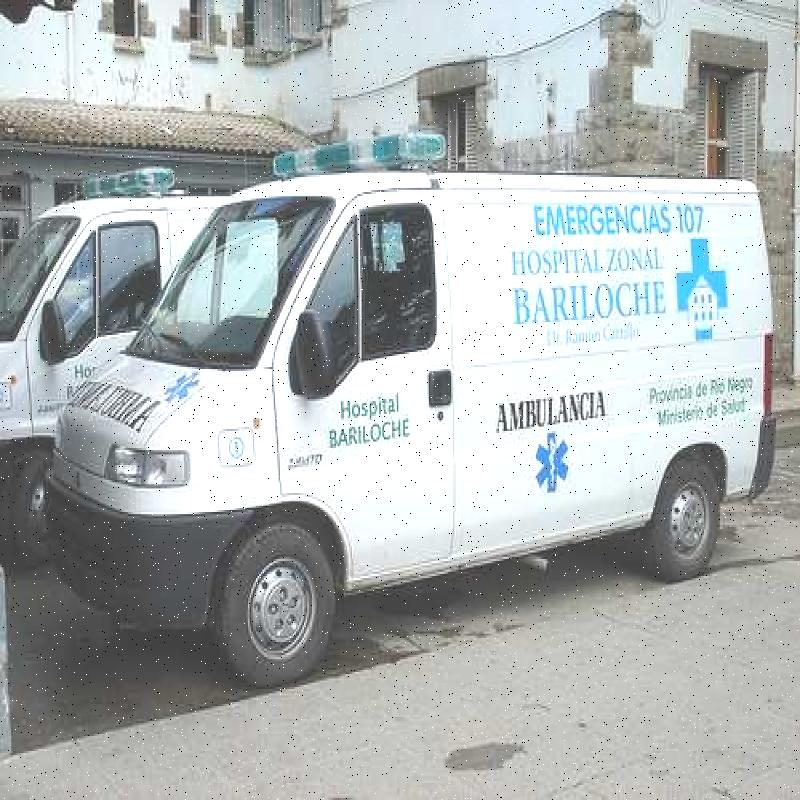AmbulanceSiren: (259, 107, 441, 184)
